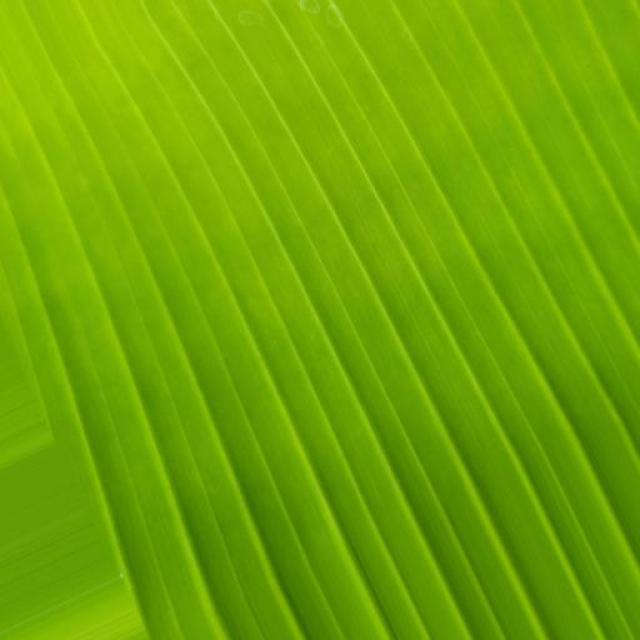Black_leaf_spot: (0, 0, 618, 620)
